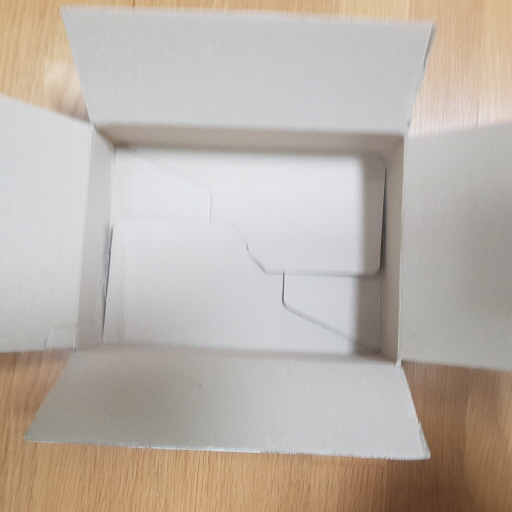Paper_0: (1, 2, 512, 465)
